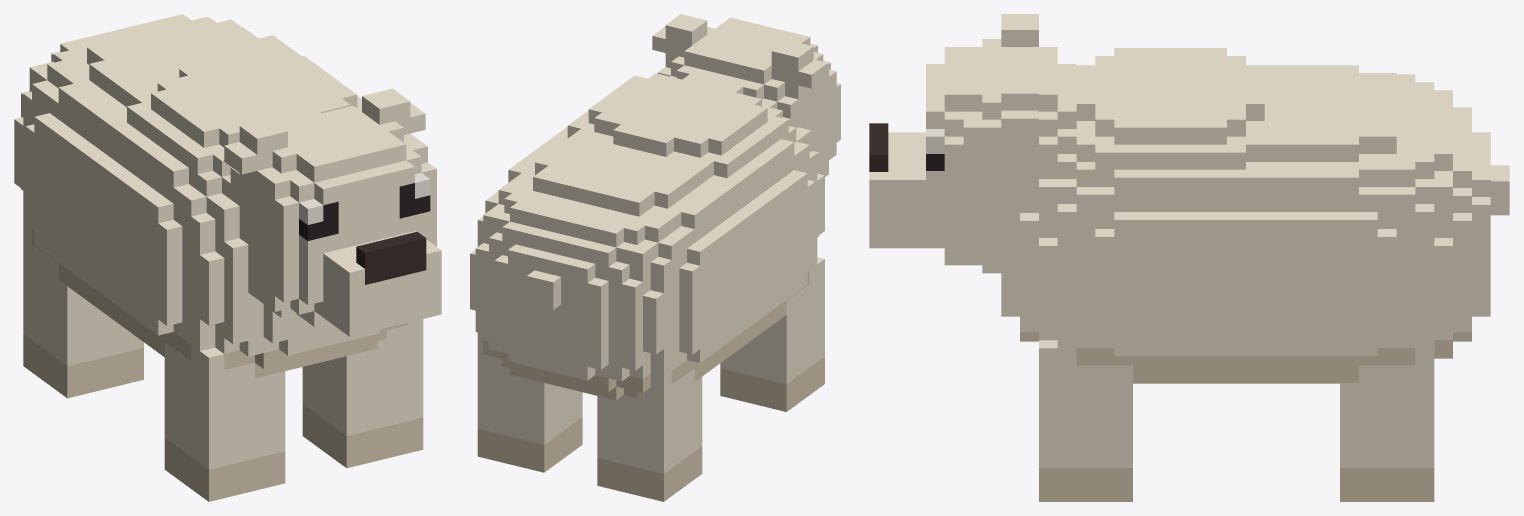
The model's file is polar_bear.glb.
The picture shows the model from 3 angles, left to right: view 1: azimuth 30°, elevation 25°; view 2: azimuth 150°, elevation 25°; view 3: azimuth 270°, elevation 25°; orthographic projection. The views are drawn at different scales.
Parts seen in each view (by area): view 1: polar_bear; view 2: polar_bear; view 3: polar_bear.
Boxes of the visible parts, box(x1,y1,x2,y2) form: polar_bear: box(14, 14, 441, 501); polar_bear: box(470, 14, 840, 501); polar_bear: box(869, 14, 1509, 501).
Size of the model in its own units: 1.6 by 2.3 by 3.4.
Materials: 1 (1 with a texture image).
